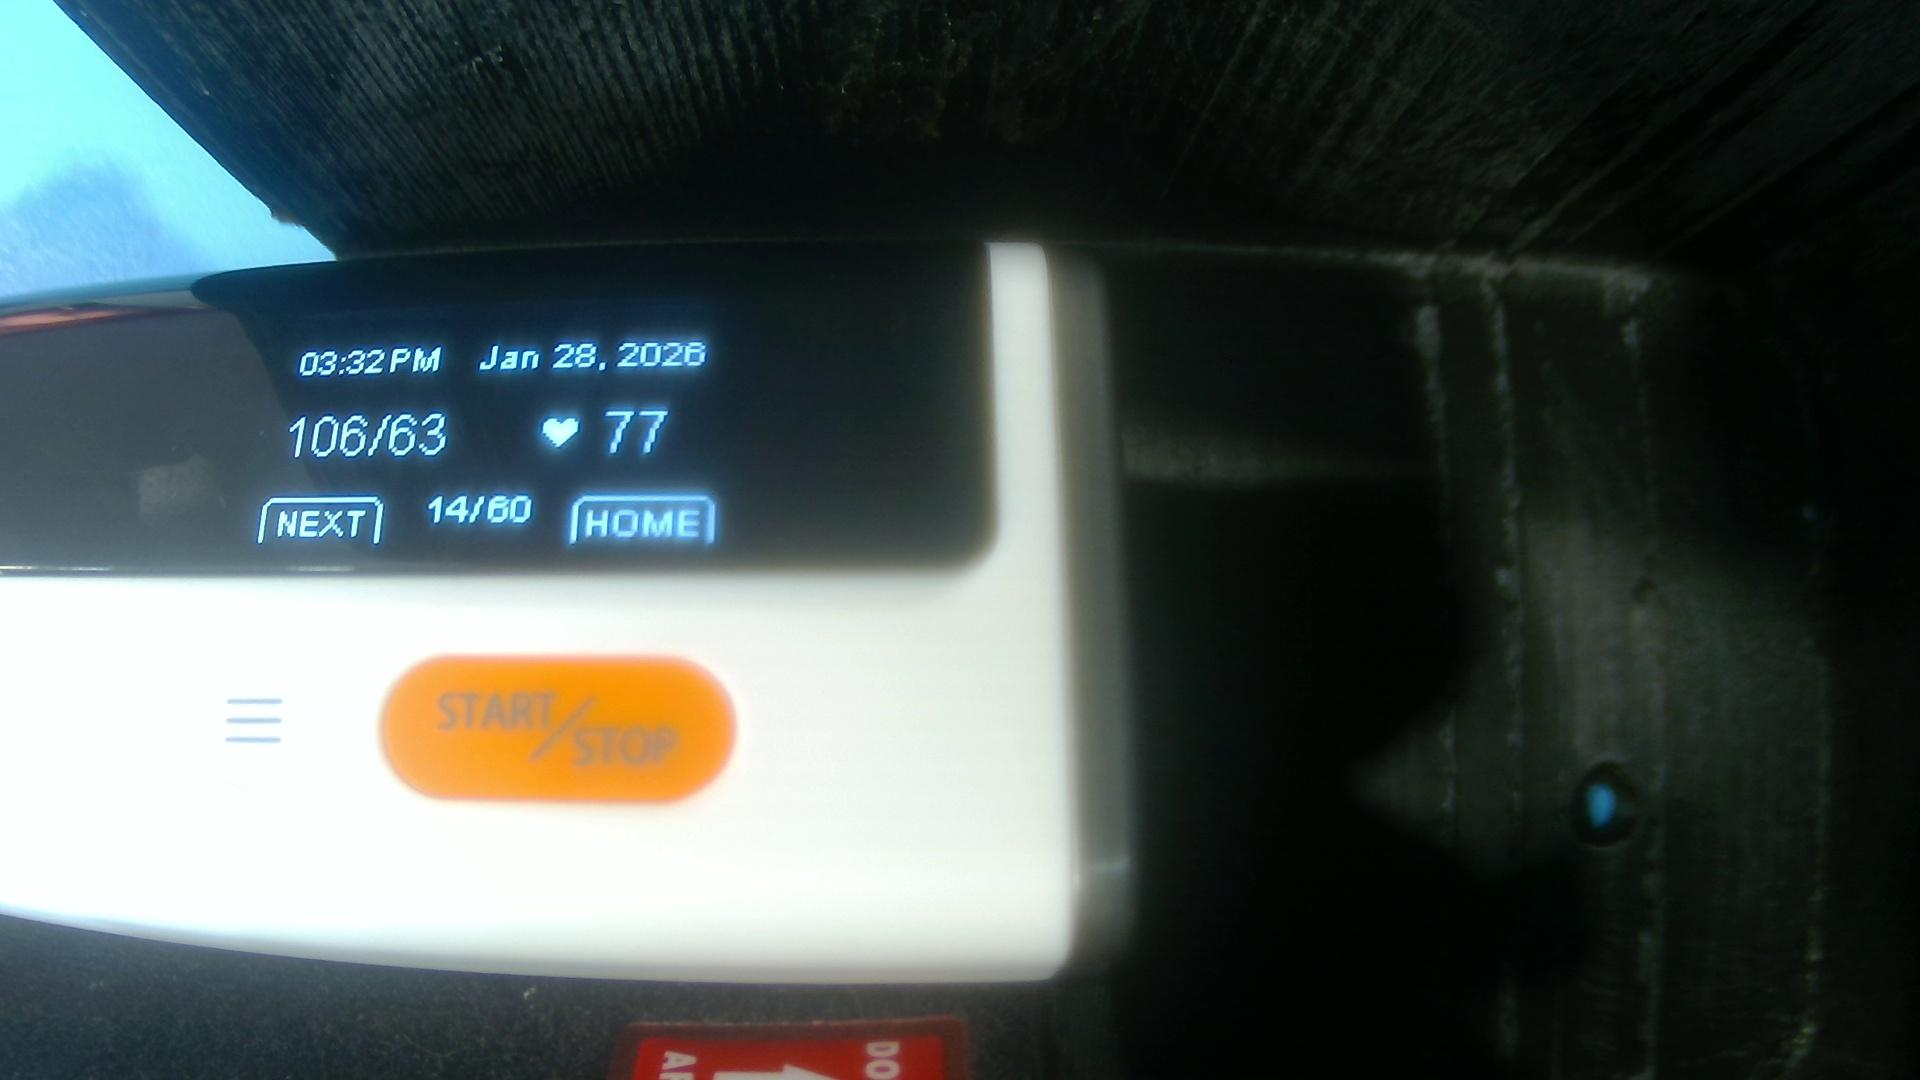DISPLAY: (1, 240, 977, 564)
